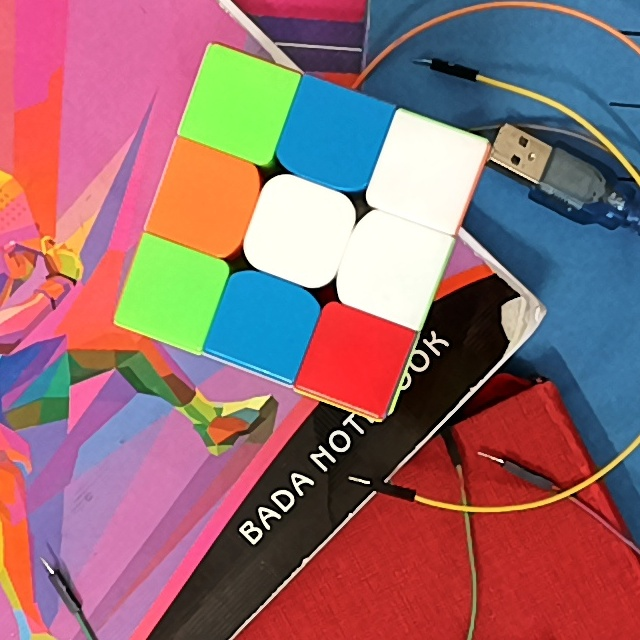tile: (267, 192, 335, 268), (297, 98, 369, 169), (170, 163, 240, 236), (205, 68, 276, 139), (392, 135, 459, 207), (137, 258, 205, 328), (320, 326, 391, 393), (357, 236, 425, 303), (225, 294, 298, 356)
